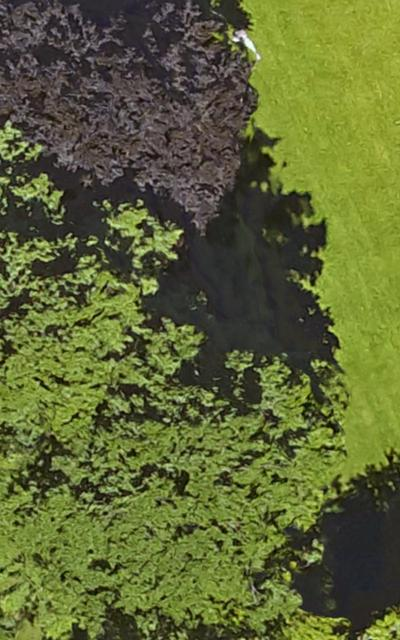tree: (2, 339, 318, 640), (0, 3, 250, 204), (0, 190, 175, 422)
